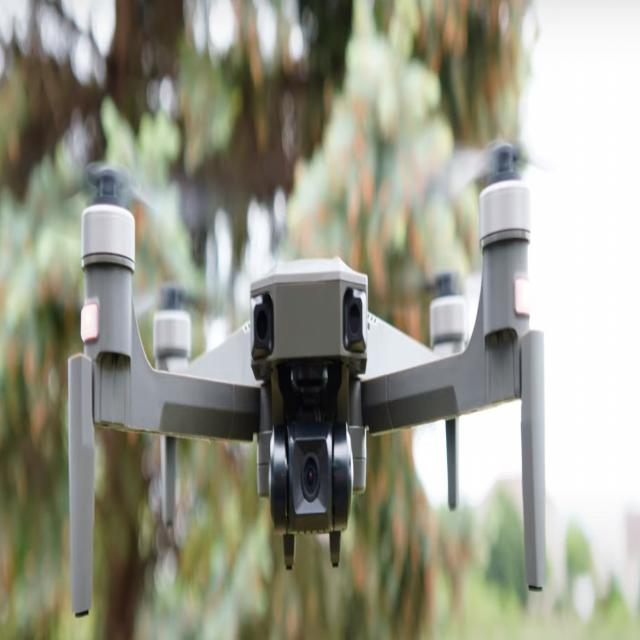drone: (62, 89, 570, 628)
